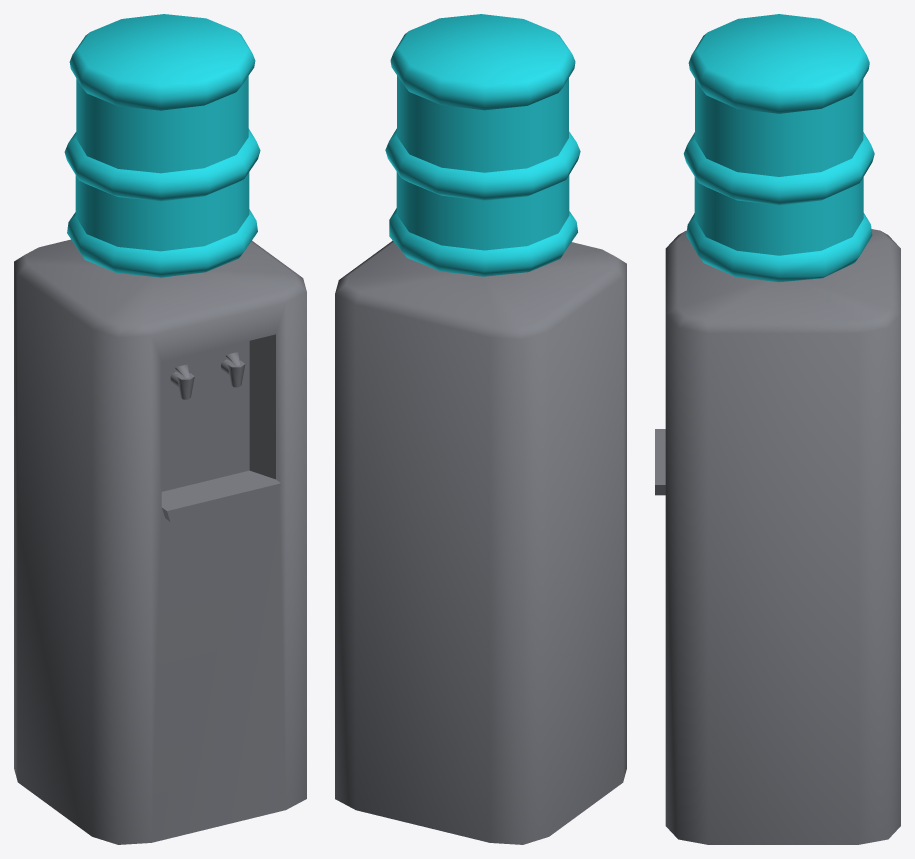
The model's file is watermachine.fbx.
The picture shows the model from 3 angles, left to right: view 1: azimuth 30°, elevation 25°; view 2: azimuth 150°, elevation 25°; view 3: azimuth 270°, elevation 25°; orthographic projection.
Visible parts, largest first — view 1: Cylinder; view 2: Cylinder; view 3: Cylinder.
Part boxes in pixels (left/top/right/bottom): Cylinder: left=14, top=14, right=306, bottom=844; Cylinder: left=335, top=14, right=626, bottom=844; Cylinder: left=655, top=14, right=900, bottom=844.
Size of the model in its own units: 0.3 by 1 by 0.3.
